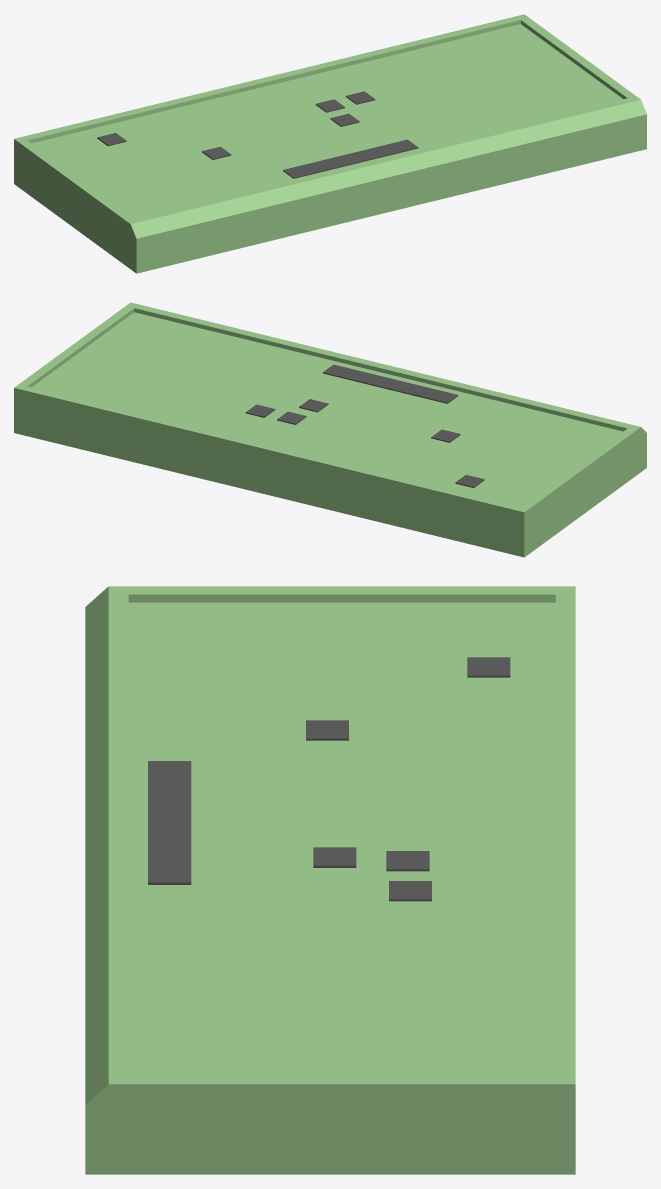
The model's file is Keyboard.fbx.
3 views of the same model, one above another, from view 1: azimuth 30°, elevation 25°; view 2: azimuth 150°, elevation 25°; view 3: azimuth 270°, elevation 25° (orthographic). The views are drawn at different scales.
Visible parts, largest first — view 1: Keyboard; view 2: Keyboard; view 3: Keyboard.
Part boxes in pixels (left/top/right/bottom): Keyboard: left=14, top=14, right=646, bottom=273; Keyboard: left=14, top=302, right=646, bottom=557; Keyboard: left=85, top=586, right=575, bottom=1174.
Bounding box in the file's own units: 186 × 15.75 × 77.4.
